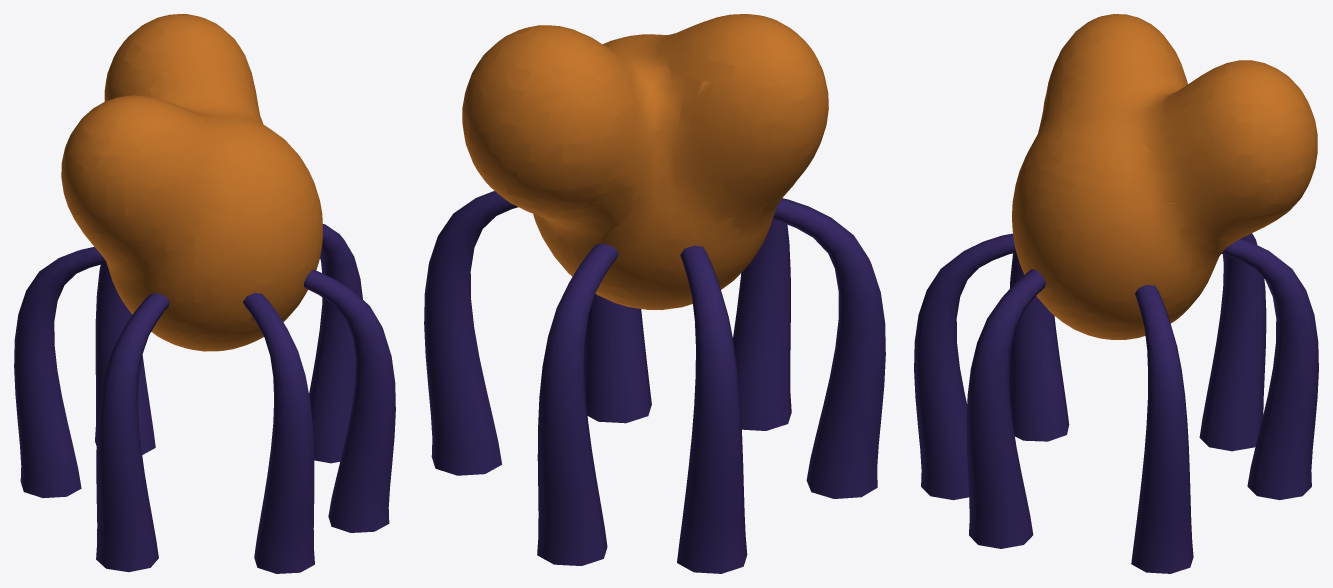
Rendered from usk_Tree_Blob-j0byyoIGOv.glb.
The picture shows the model from 3 angles, left to right: view 1: azimuth 30°, elevation 25°; view 2: azimuth 150°, elevation 25°; view 3: azimuth 270°, elevation 25°; orthographic projection. The views are drawn at different scales.
Visible parts, largest first — view 1: Tree_Blob_2; view 2: Tree_Blob_2; view 3: Tree_Blob_2.
Part boxes in pixels (x1=…): Tree_Blob_2: x1=14, y1=14, x2=395, y2=573; Tree_Blob_2: x1=424, y1=14, x2=885, y2=573; Tree_Blob_2: x1=914, y1=14, x2=1318, y2=573.
Size of the model in its own units: 3.69 by 4.61 by 3.86.
1 material, 1 textured.
